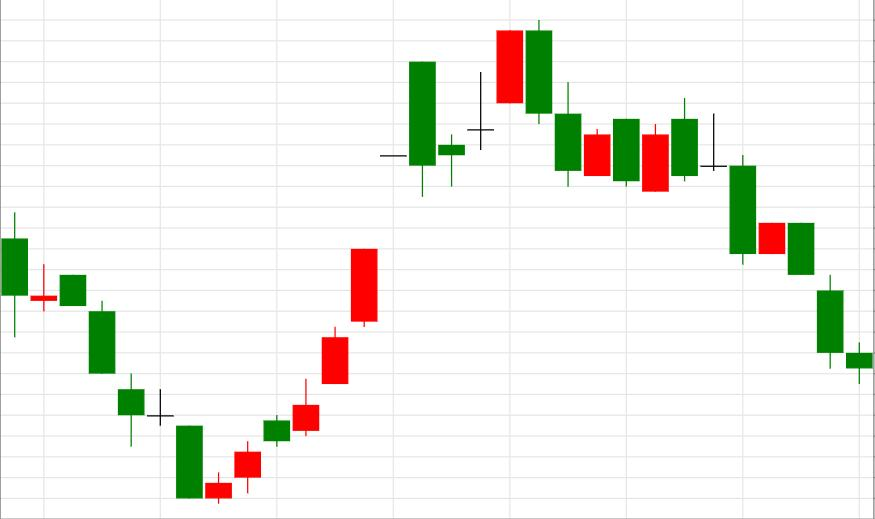bearish_engulfing_fall: (205, 21, 552, 504)
